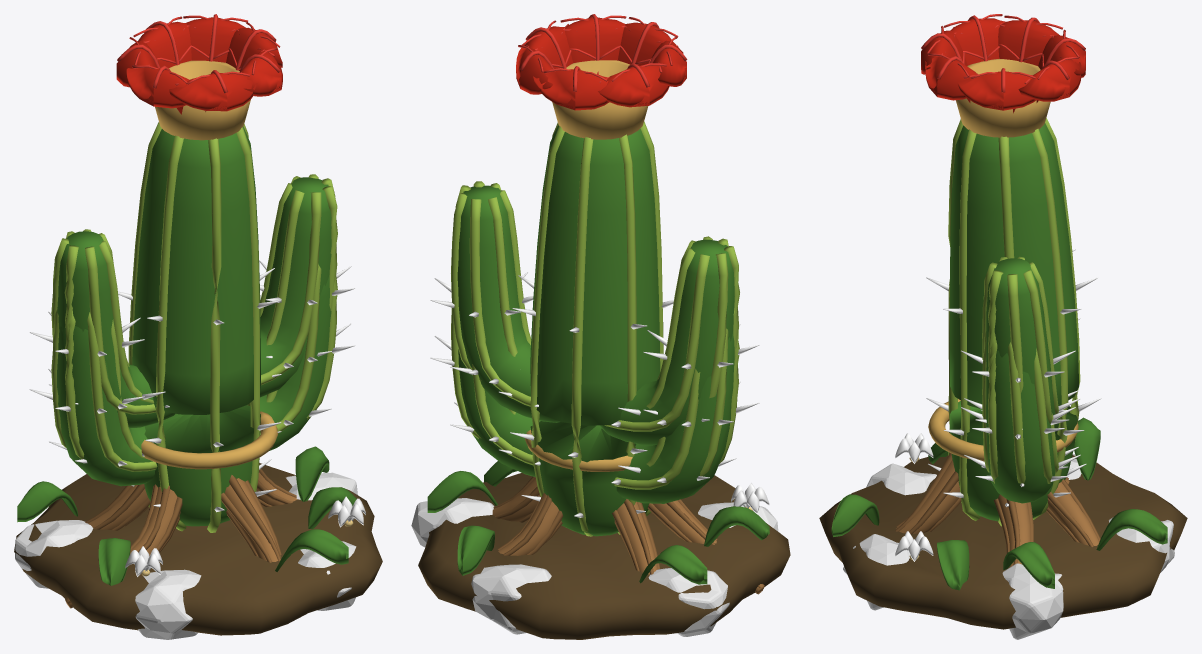
The model's file is cactus-3.fbx.
3 views of the same model, side by side, from view 1: azimuth 30°, elevation 25°; view 2: azimuth 150°, elevation 25°; view 3: azimuth 270°, elevation 25° (orthographic). The views are drawn at different scales.
Visible parts, largest first — view 1: Turret_PortalBamboo, Petals_PortalBamboo, cactus-3_Organic, Spines_Petal, cactus-3_Bark, cactus-3_Stone, cactus-3_PortalBamboo, CactusMuzzle, Turret_Metal, Petals_Organic, cactus-3_Petal, Turret_Organic; view 2: Turret_PortalBamboo, Petals_PortalBamboo, cactus-3_Organic, Spines_Petal, cactus-3_Stone, cactus-3_Bark, cactus-3_PortalBamboo, CactusMuzzle, Petals_Organic, Turret_Metal, Turret_Organic, cactus-3_Petal; view 3: Turret_PortalBamboo, cactus-3_Organic, Petals_PortalBamboo, Spines_Petal, cactus-3_PortalBamboo, cactus-3_Stone, cactus-3_Bark, CactusMuzzle, Turret_Metal, Petals_Organic, cactus-3_Petal, Turret_Organic.
Boxes of the visible parts, box(x1,y1,x2,y2) form: Turret_PortalBamboo: box(128, 122, 260, 532); Petals_PortalBamboo: box(51, 174, 337, 486); cactus-3_Organic: box(14, 463, 382, 635); Spines_Petal: box(116, 14, 282, 114); cactus-3_Bark: box(65, 468, 297, 608); cactus-3_Stone: box(15, 472, 357, 639); cactus-3_PortalBamboo: box(17, 446, 356, 585); CactusMuzzle: box(155, 60, 250, 140); Turret_Metal: box(141, 411, 277, 469); Petals_Organic: box(29, 260, 355, 466); cactus-3_Petal: box(125, 496, 365, 576); Turret_Organic: box(118, 268, 281, 512); Turret_PortalBamboo: box(530, 121, 663, 536); Petals_PortalBamboo: box(451, 181, 739, 503); cactus-3_Organic: box(418, 473, 790, 639); Spines_Petal: box(516, 14, 687, 110); cactus-3_Stone: box(411, 498, 778, 636); cactus-3_Bark: box(492, 476, 764, 594); cactus-3_PortalBamboo: box(427, 461, 769, 584); CactusMuzzle: box(552, 60, 648, 139); Petals_Organic: box(430, 272, 759, 484); Turret_Metal: box(525, 430, 632, 471); Turret_Organic: box(510, 275, 673, 517); cactus-3_Petal: box(731, 483, 769, 513); Turret_PortalBamboo: box(948, 118, 1080, 526); cactus-3_Organic: box(819, 455, 1187, 629); Petals_PortalBamboo: box(982, 256, 1058, 503); Spines_Petal: box(921, 14, 1085, 113); cactus-3_PortalBamboo: box(831, 417, 1167, 590); cactus-3_Stone: box(843, 454, 1174, 639); cactus-3_Bark: box(895, 453, 1100, 566); CactusMuzzle: box(956, 58, 1050, 137); Turret_Metal: box(928, 399, 1078, 461); Petals_Organic: box(961, 249, 1080, 486); cactus-3_Petal: box(895, 433, 933, 561); Turret_Organic: box(926, 277, 1101, 506).
Bounding box in the file's own units: 82.07 × 131 × 82.7.
